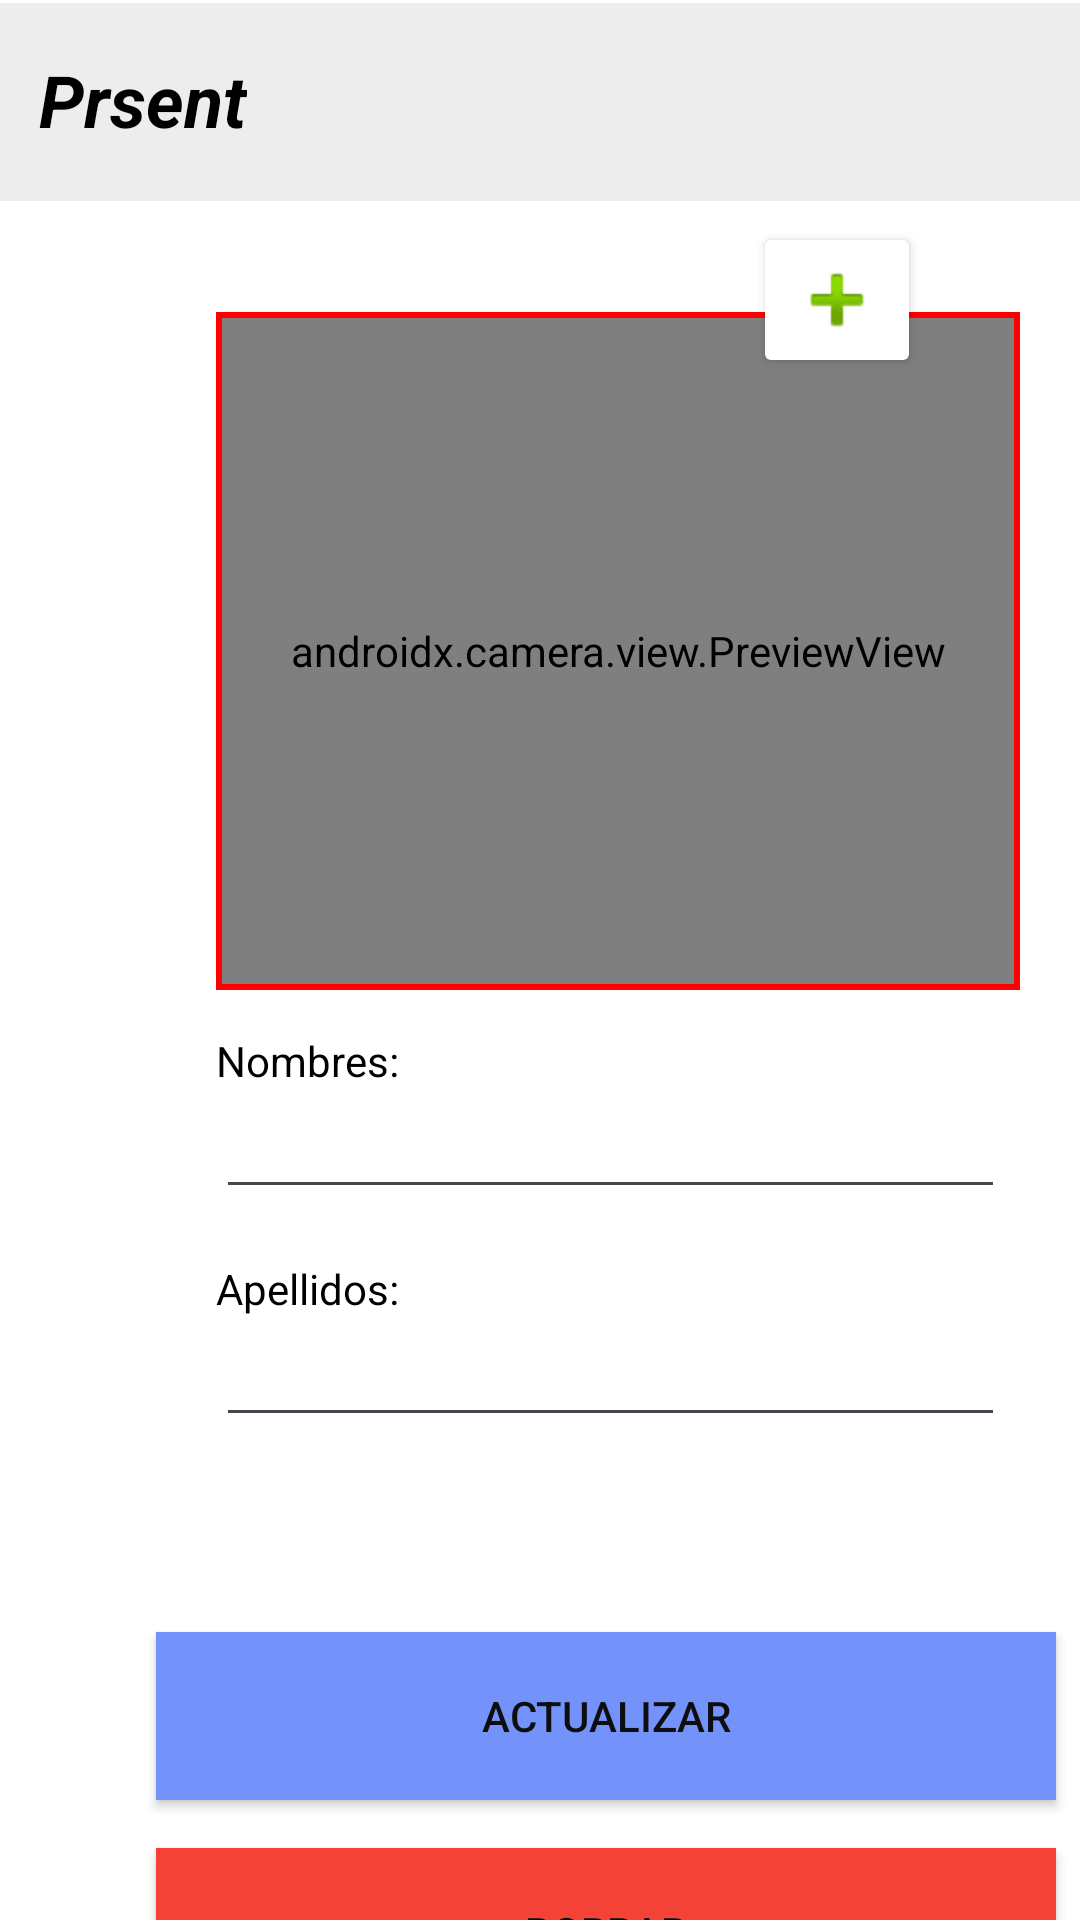

Icons on this 1080 × 1920 Android screen, each with the point to tap as [x,y]:
add: [837,300]
